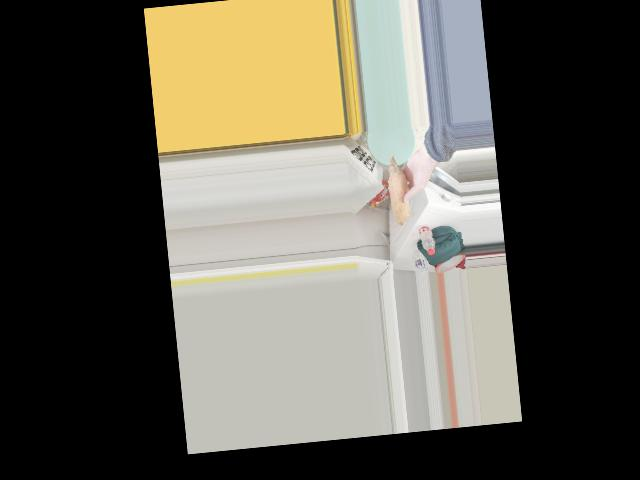sweet_potato: (386, 159, 413, 218)
